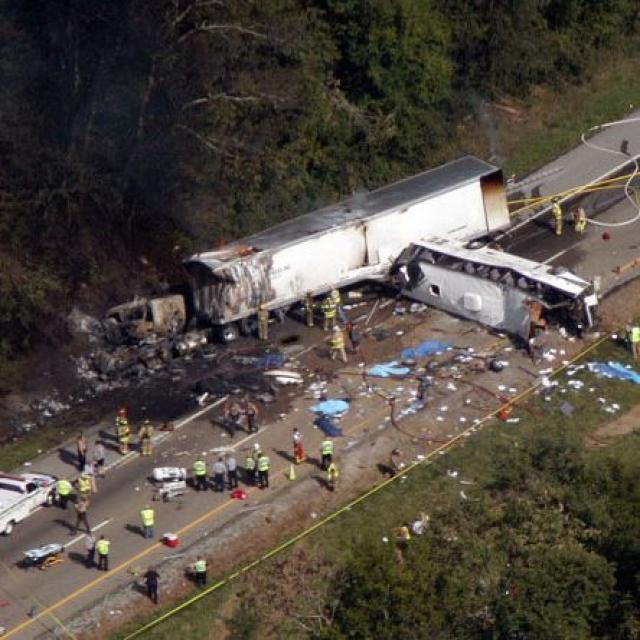traffic_incident: (84, 128, 518, 356), (375, 242, 598, 364)
